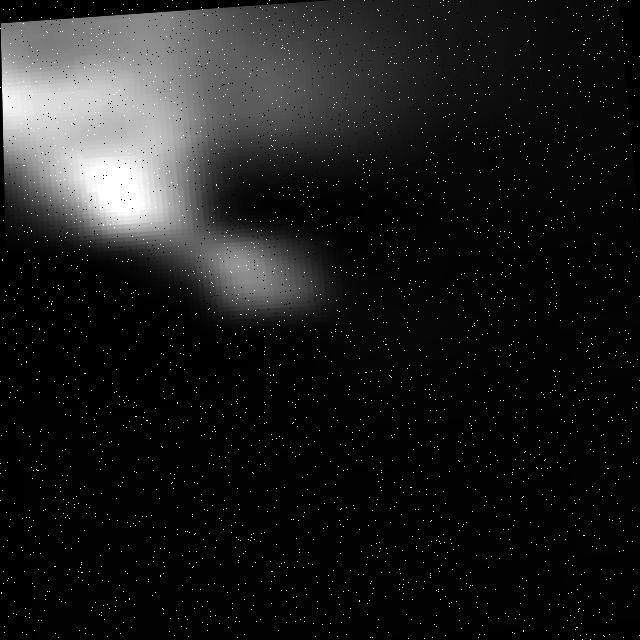person: (1, 1, 559, 334)
